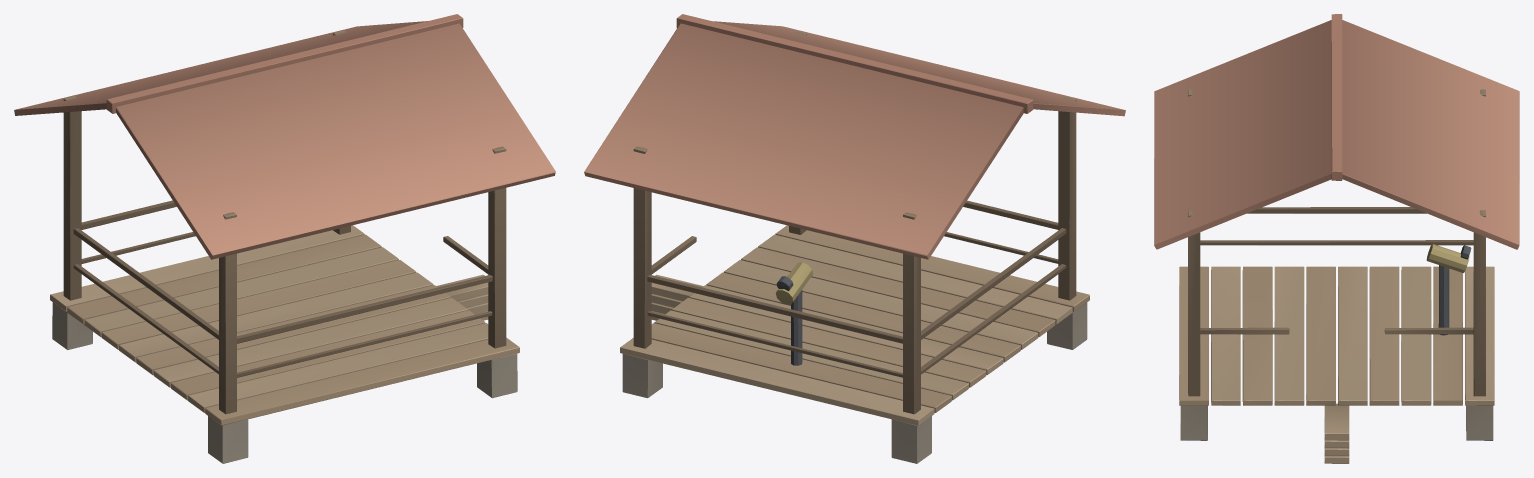
File: lookout_low.glb
3 views of the same model, side by side, from view 1: azimuth 30°, elevation 25°; view 2: azimuth 150°, elevation 25°; view 3: azimuth 270°, elevation 25° (orthographic). The views are drawn at different scales.
Size of the model in its own units: 5.1 by 3.93 by 4.61.
